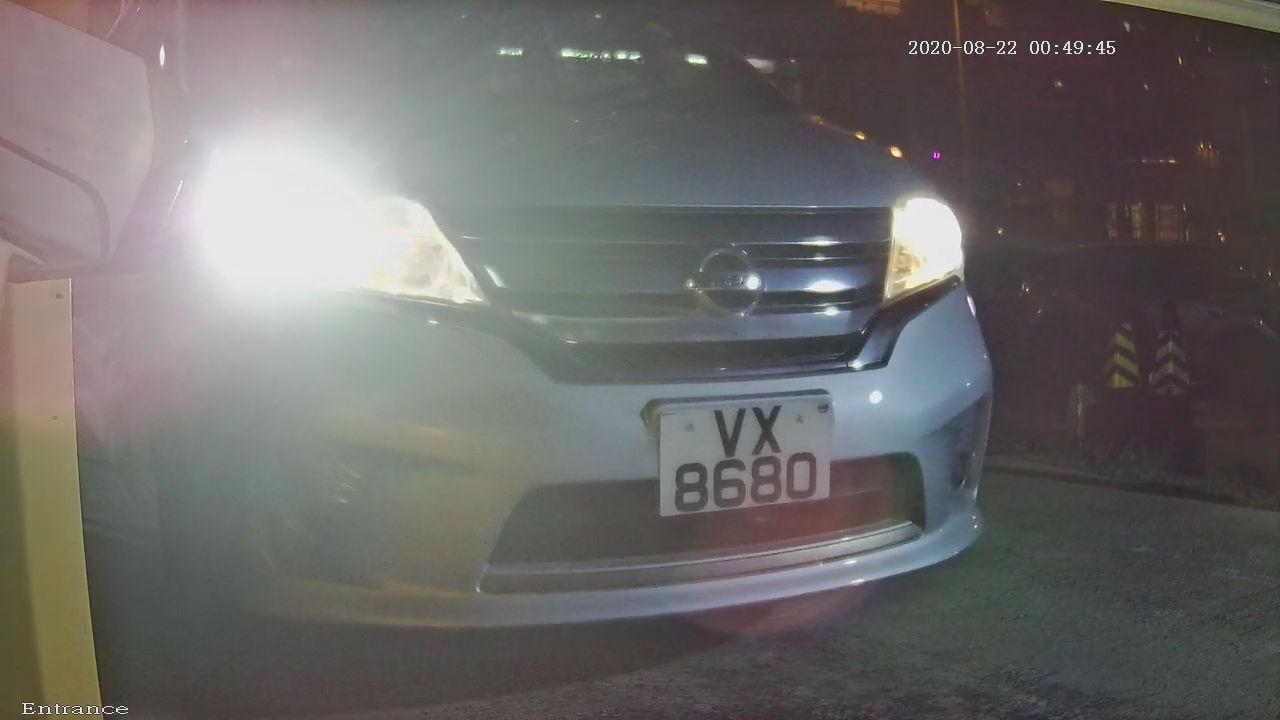Car: (23, 17, 1086, 685)
License Plate: (635, 373, 841, 531)
